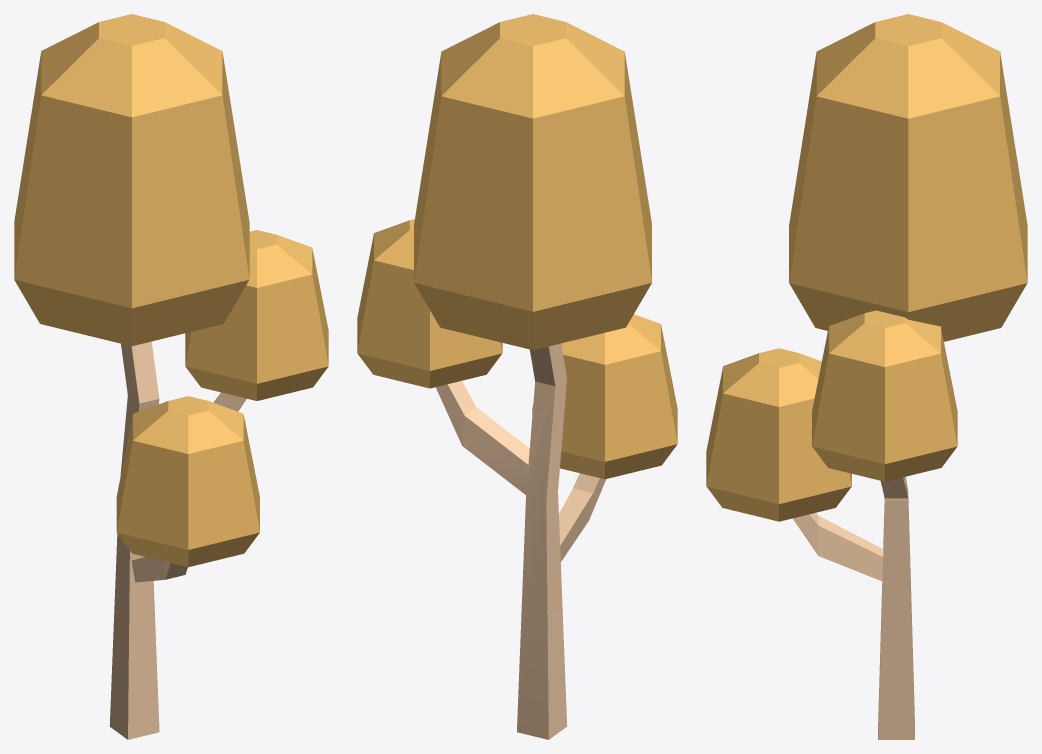
File: tree_thin_fall.glb
3 views of the same model, side by side, from view 1: azimuth 30°, elevation 25°; view 2: azimuth 150°, elevation 25°; view 3: azimuth 270°, elevation 25° (orthographic).
Visible parts, largest first — view 1: tree_thin_fall; view 2: tree_thin_fall; view 3: tree_thin_fall.
Part boxes in pixels (x1,y1,x2,y2): tree_thin_fall: (14,14,328,739); tree_thin_fall: (357,14,677,739); tree_thin_fall: (706,14,1027,739).
Size of the model in its own units: 0.6804 by 1.49 by 0.6165.
